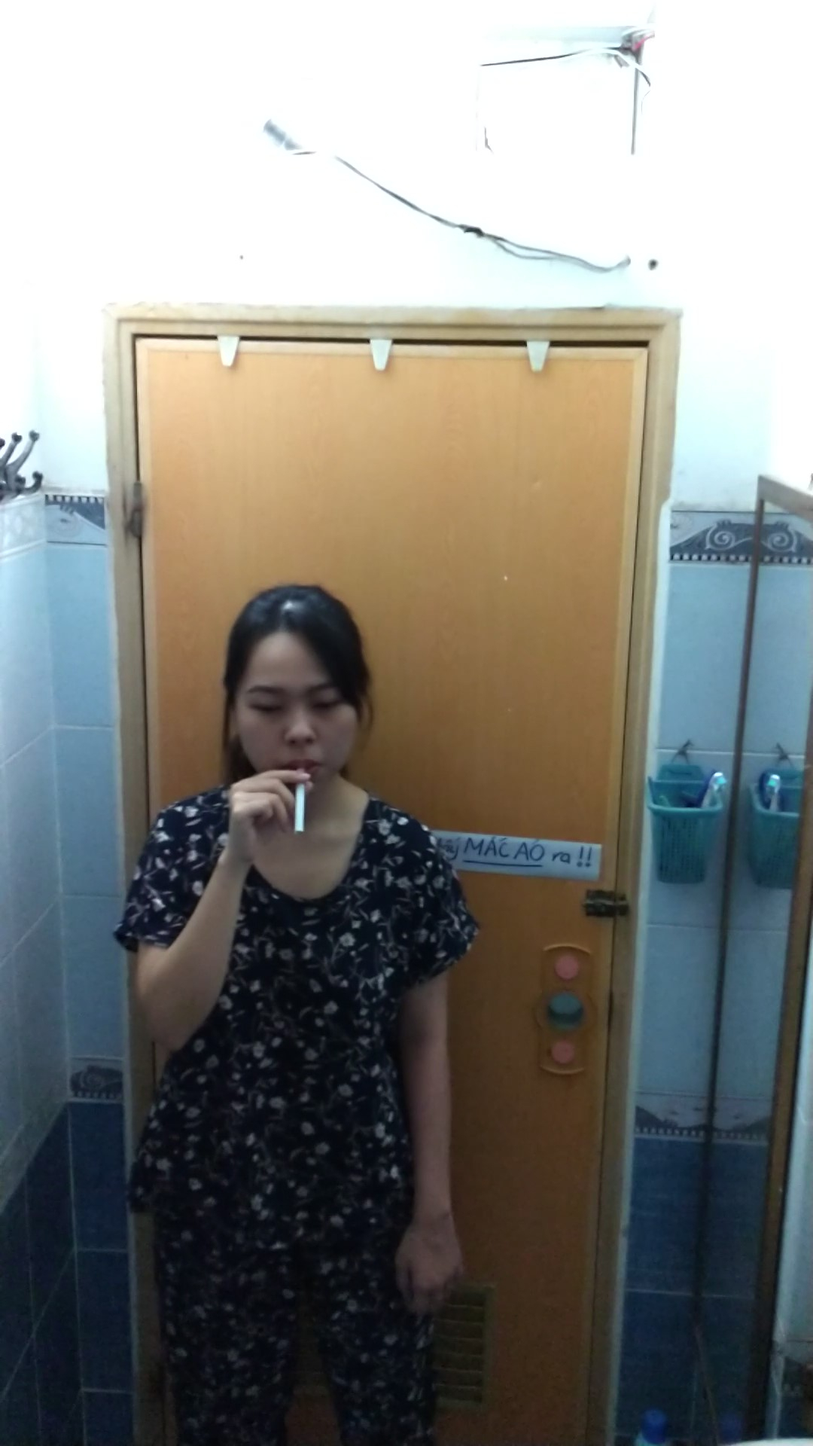cigarette: (288, 785, 313, 840)
person: (108, 581, 493, 1446)
